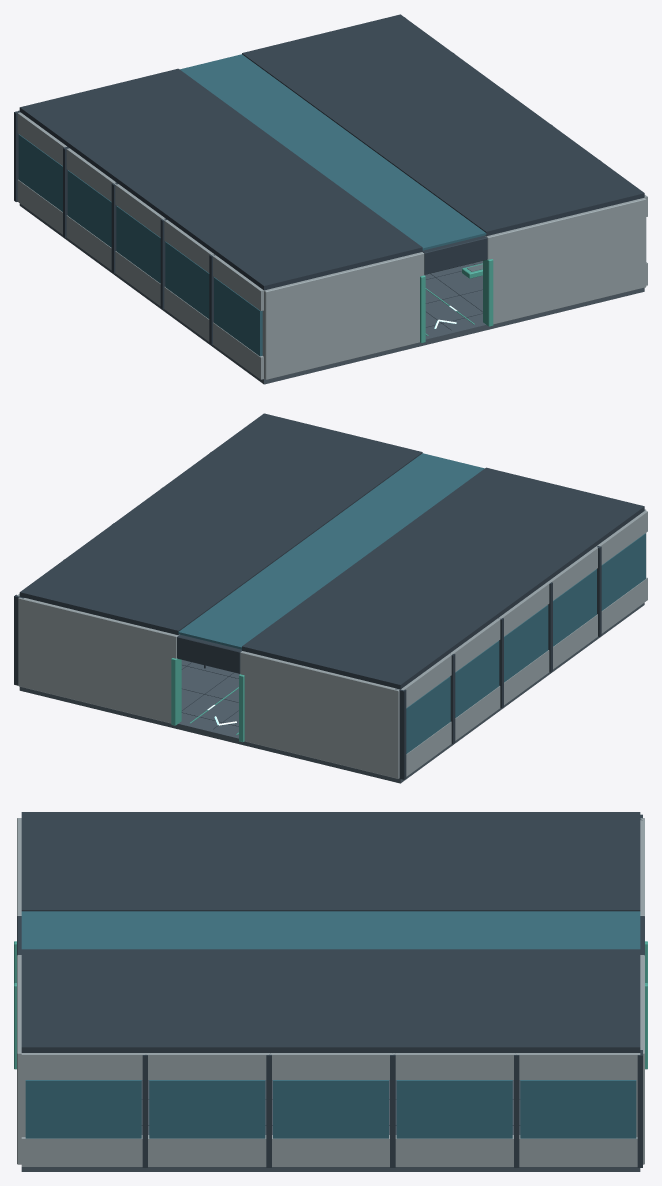
Rendered from trebe_training.glb.
3 views of the same model, one above another, from view 1: azimuth 30°, elevation 25°; view 2: azimuth 150°, elevation 25°; view 3: azimuth 270°, elevation 25° (orthographic). The views are drawn at different scales.
Visible parts, largest first — view 1: roof-col, front_wall-col, side_walls-col, deck-col; view 2: roof-col, back_wall-col, side_walls-col, deck-col; view 3: roof-col, side_walls-col, deck-col, front_wall-col, back_wall-col.
Boxes of the visible parts, x1=… form: roof-col: x1=19, y1=14, x2=644, y2=290; front_wall-col: x1=262, y1=198, x2=646, y2=379; side_walls-col: x1=14, y1=17, x2=647, y2=379; deck-col: x1=19, y1=203, x2=644, y2=384; roof-col: x1=19, y1=413, x2=644, y2=689; back_wall-col: x1=18, y1=597, x2=399, y2=778; side_walls-col: x1=14, y1=452, x2=647, y2=779; deck-col: x1=19, y1=603, x2=644, y2=783; roof-col: x1=21, y1=812, x2=640, y2=1052; side_walls-col: x1=21, y1=814, x2=642, y2=1167; deck-col: x1=21, y1=1080, x2=640, y2=1171; front_wall-col: x1=14, y1=818, x2=25, y2=1164; back_wall-col: x1=636, y1=818, x2=647, y2=1164.
Size of the model in its own units: 36.9 by 8.9 by 41.
